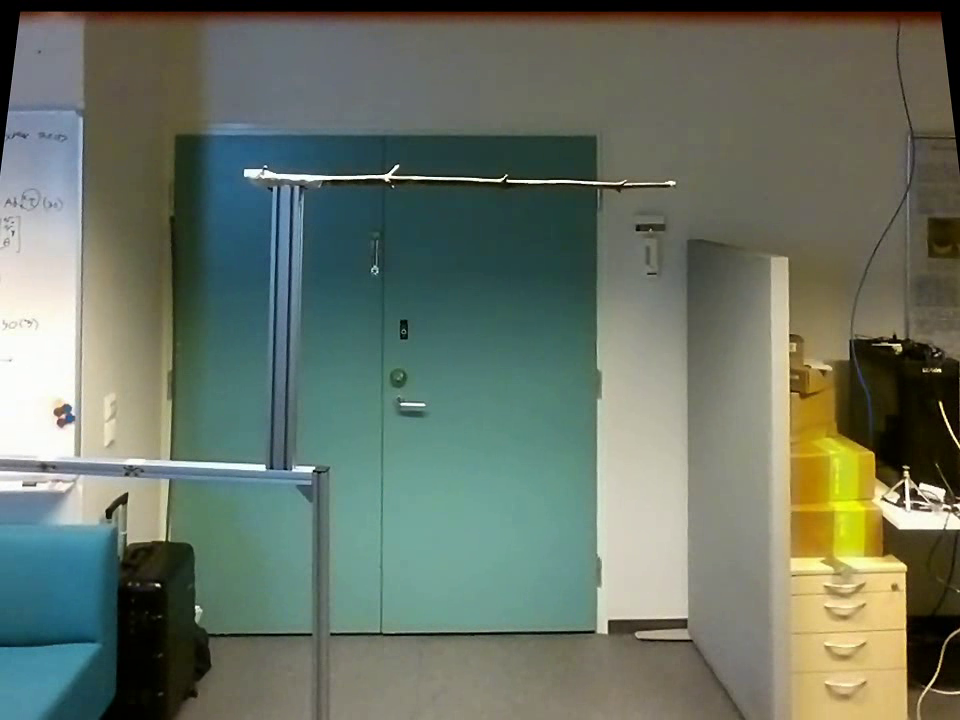aluminum_frame: (2, 449, 316, 491), (260, 186, 297, 468), (66, 101, 90, 488), (308, 464, 334, 717), (2, 101, 98, 118)
branch: (324, 154, 661, 201)
